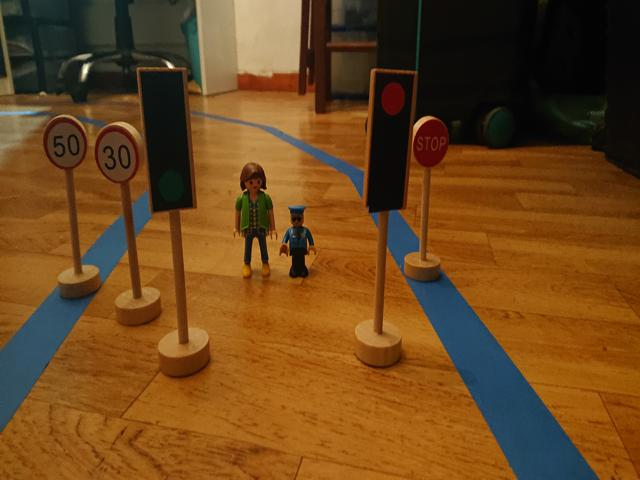30 speed sign: (93, 127, 140, 184)
50 speed sign: (43, 115, 88, 169)
green light: (145, 76, 189, 208)
person: (230, 163, 278, 281), (277, 202, 317, 281)
red light: (376, 73, 406, 206)
stop sign: (412, 119, 448, 167)
